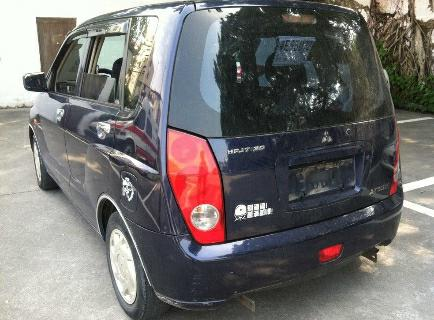哈飞-赛马: (20, 2, 409, 319)
